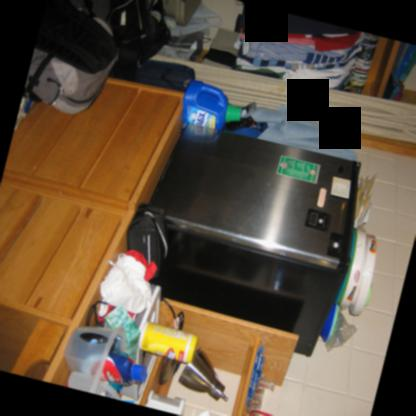backpack: (26, 0, 120, 116)
handbag: (126, 202, 170, 280)
suitcase: (106, 0, 170, 74), (135, 59, 196, 93)
